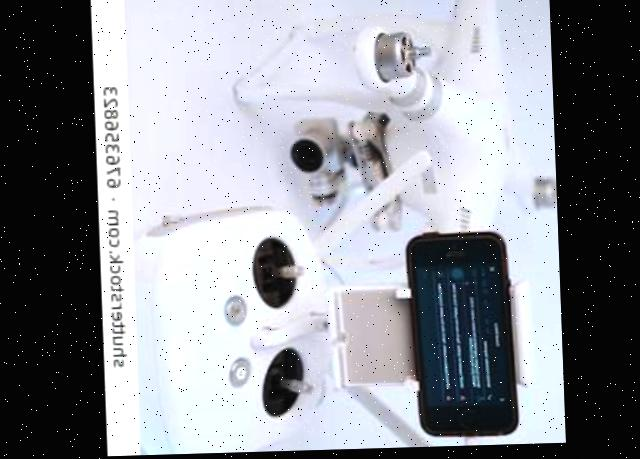drone: (223, 0, 558, 296)
